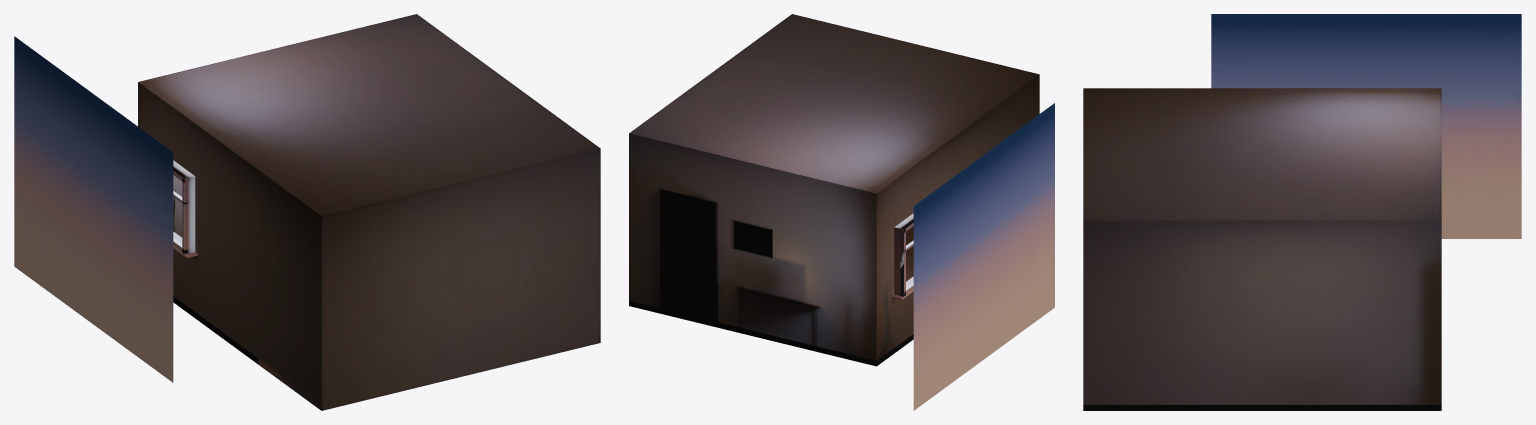
The model's file is room.glb.
The picture shows the model from 3 angles, left to right: view 1: azimuth 30°, elevation 25°; view 2: azimuth 150°, elevation 25°; view 3: azimuth 270°, elevation 25°; orthographic projection. The views are drawn at different scales.
Visible parts, largest first — view 1: wall_front, ceiling, sky, wall_left_b, wall_left_d, wall_left_c, skirt_left_a, wall_left_a, window_frame, reveal_r; view 2: wall_back, ceiling, sky, wall_left_b, wall_left_a, wall_left_d, wall_left_c, reveal_l; view 3: wall_right, ceiling, sky, skirt_right.
Part boxes in pixels (x1,y1,x2,y2): wall_front: [321, 148, 600, 410]; ceiling: [138, 14, 600, 216]; sky: [14, 36, 173, 382]; wall_left_b: [195, 124, 321, 410]; wall_left_d: [157, 97, 195, 175]; wall_left_c: [173, 249, 195, 317]; skirt_left_a: [173, 296, 322, 410]; wall_left_a: [138, 82, 157, 140]; window_frame: [173, 167, 188, 254]; reveal_r: [184, 176, 195, 254]; wall_back: [629, 133, 876, 366]; ceiling: [629, 14, 1039, 193]; sky: [913, 103, 1054, 410]; wall_left_b: [927, 75, 1039, 195]; wall_left_a: [876, 181, 894, 365]; wall_left_d: [894, 156, 927, 226]; wall_left_c: [894, 292, 913, 353]; reveal_l: [894, 227, 903, 296]; wall_right: [1083, 221, 1441, 410]; ceiling: [1083, 88, 1441, 221]; sky: [1211, 14, 1521, 238]; skirt_right: [1083, 405, 1441, 410].
Size of the model in its own units: 5.25 by 3.2 by 5.65.
7 materials, 4 textured.
